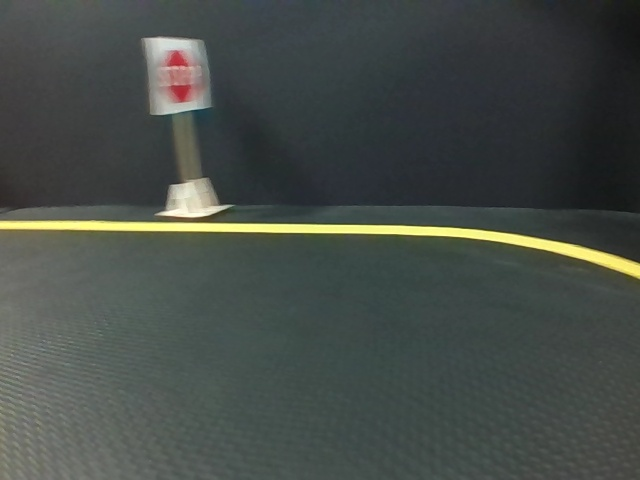stop: (147, 38, 206, 110)
